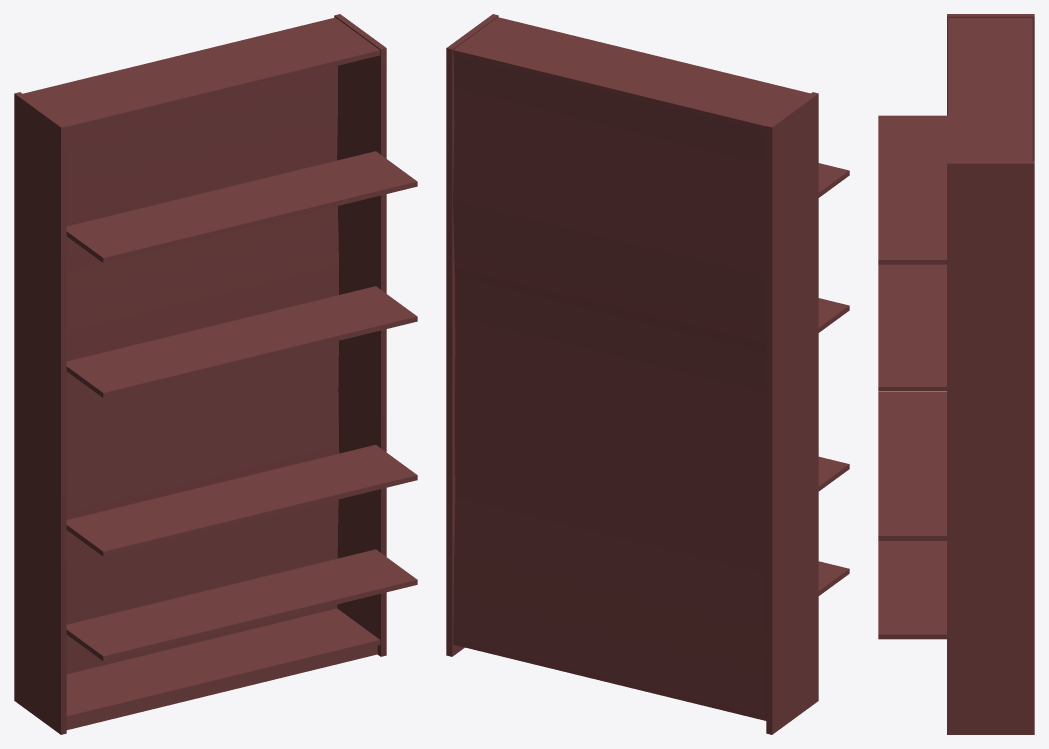
File: bookcase.fbx
The picture shows the model from 3 angles, left to right: view 1: azimuth 30°, elevation 25°; view 2: azimuth 150°, elevation 25°; view 3: azimuth 270°, elevation 25°; orthographic projection. The views are drawn at different scales.
Parts seen in each view (by area): view 1: Base, Shelf_2, Shelf_1, Shelf_4, Shelf_3; view 2: Base, Shelf_1, Shelf_2, Shelf_3, Shelf_4; view 3: Base, Shelf_4, Shelf_2, Shelf_3, Shelf_1.
Part boxes in pixels (<box>): Base: <box>14,14,386,734</box>; Shelf_2: <box>66,444,417,556</box>; Shelf_1: <box>66,549,417,661</box>; Shelf_4: <box>66,151,417,262</box>; Shelf_3: <box>66,286,417,397</box>; Base: <box>446,14,818,734</box>; Shelf_1: <box>818,561,849,595</box>; Shelf_2: <box>818,456,849,491</box>; Shelf_3: <box>818,298,849,332</box>; Shelf_4: <box>818,163,849,197</box>; Base: <box>947,14,1034,734</box>; Shelf_4: <box>878,115,948,264</box>; Shelf_2: <box>878,392,946,540</box>; Shelf_3: <box>878,264,946,391</box>; Shelf_1: <box>878,541,946,639</box>.
Size of the model in its own units: 101 by 180 by 44.66.
